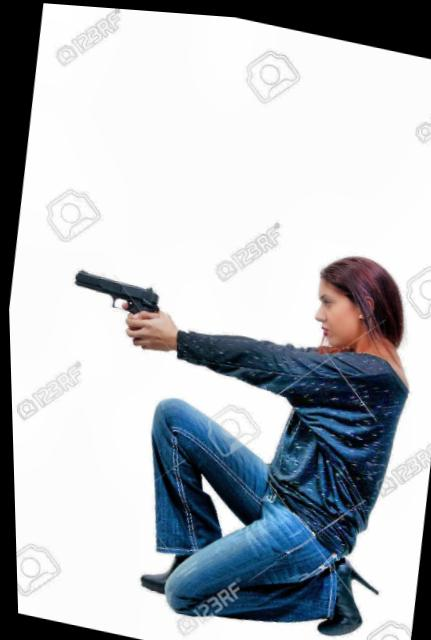pistol: (61, 260, 166, 343)
